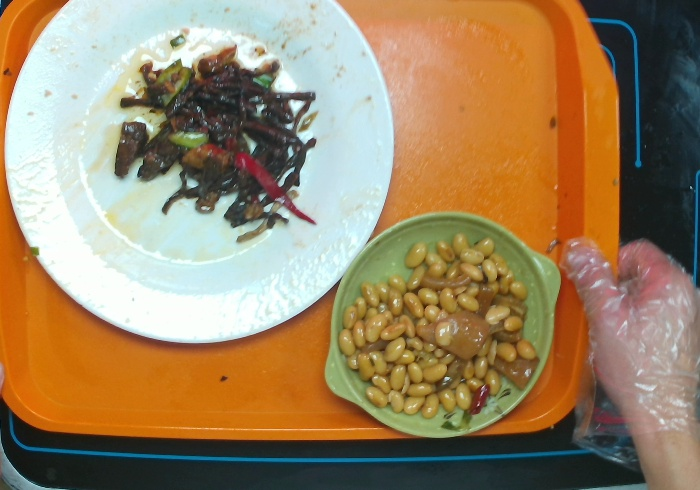NLDX-Da_Yuan_Pan: (1, 1, 395, 351)
NLDX-Lv_Hua_Shuang_Er_Die: (321, 210, 565, 442)
